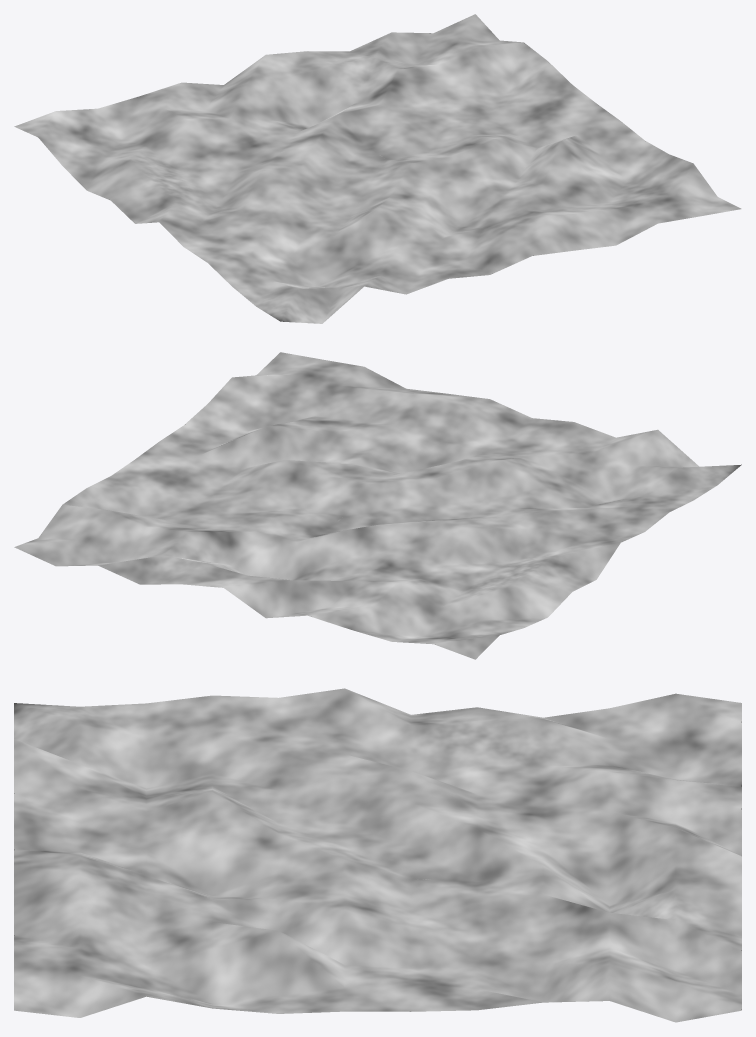
File: clouds.fbx
The picture shows the model from 3 angles, top to bottom: view 1: azimuth 30°, elevation 25°; view 2: azimuth 150°, elevation 25°; view 3: azimuth 270°, elevation 25°; orthographic projection. The views are drawn at different scales.
Visible parts, largest first — view 1: Plane; view 2: Plane; view 3: Plane.
Boxes of the visible parts, <box> form: Plane: <box>14,14,741,323</box>; Plane: <box>14,352,741,659</box>; Plane: <box>14,688,741,1022</box>.
Bounding box in the file's own units: 20000 × 1762 × 20000.
1 material, 1 textured.
